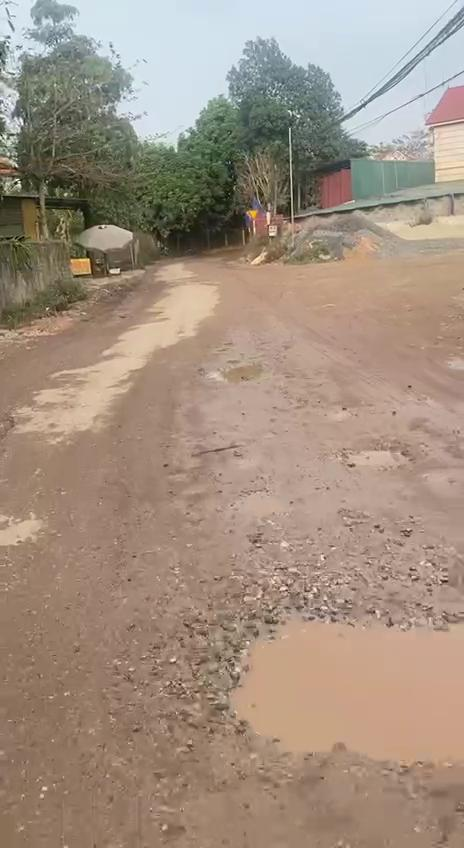pothole: (212, 595, 464, 788), (334, 444, 408, 470), (210, 359, 264, 386)
